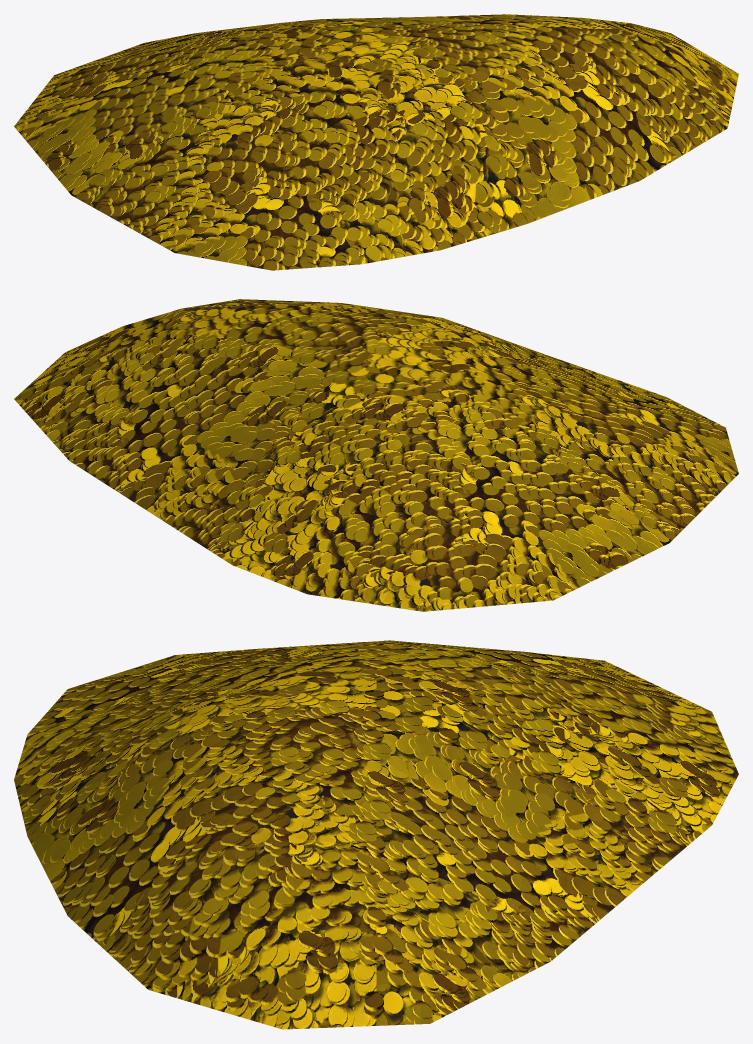
The model's file is INST_SM_GOLDPILE_MEDIUMA.fbx.
3 views of the same model, one above another, from view 1: azimuth 30°, elevation 25°; view 2: azimuth 150°, elevation 25°; view 3: azimuth 270°, elevation 25° (orthographic). The views are drawn at different scales.
Parts seen in each view (by area): view 1: INST_SM_GOLDPILE_MEDIUMA; view 2: INST_SM_GOLDPILE_MEDIUMA; view 3: INST_SM_GOLDPILE_MEDIUMA.
Part boxes in pixels (x1=…): INST_SM_GOLDPILE_MEDIUMA: x1=14, y1=14, x2=738, y2=270; INST_SM_GOLDPILE_MEDIUMA: x1=14, y1=299, x2=738, y2=611; INST_SM_GOLDPILE_MEDIUMA: x1=14, y1=640, x2=738, y2=1029.
Size of the model in its own units: 85000 by 13167 by 67500.
Materials: 1 (1 with a texture image).
